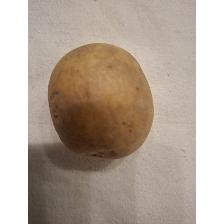Kartoffel: (46, 40, 156, 162)
